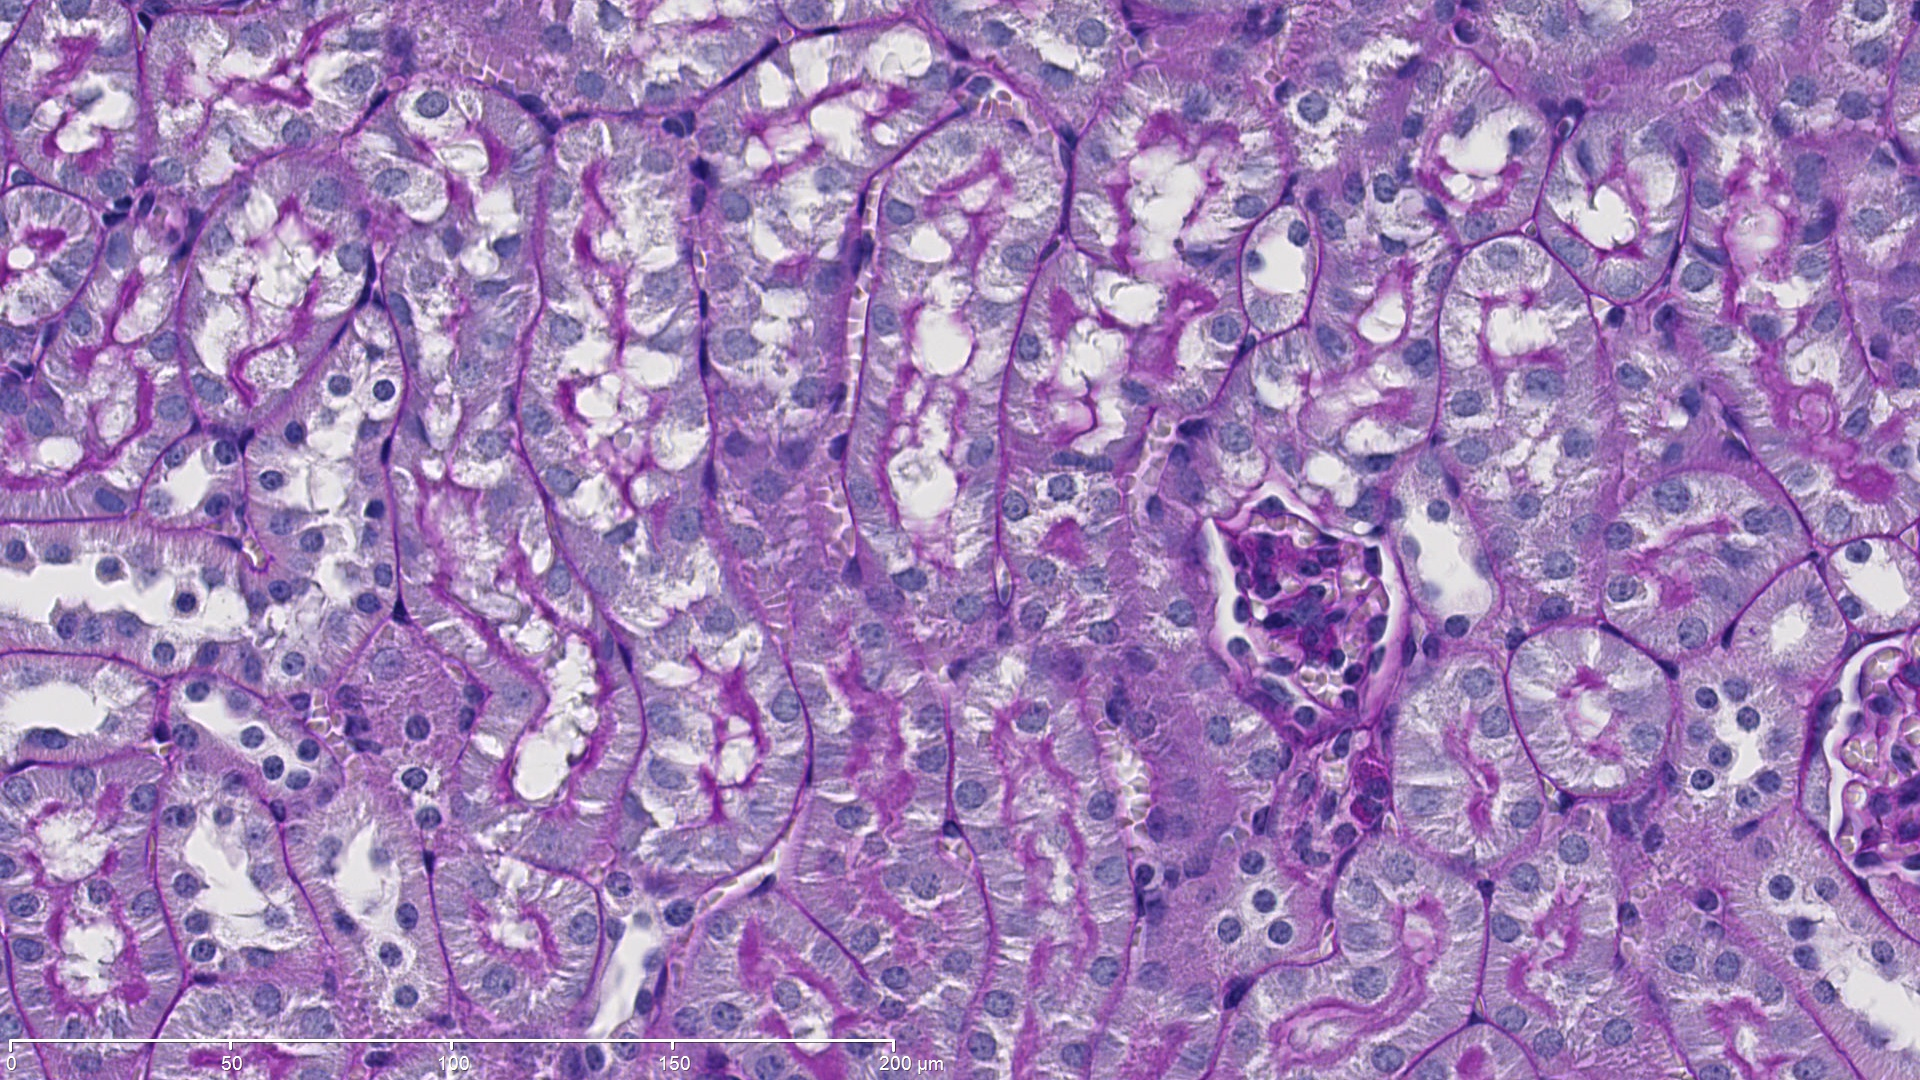Glomeruli: (1207, 483, 1422, 727)
